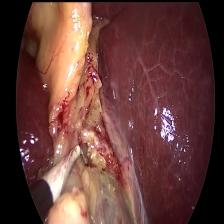Hook: (40, 142, 88, 200)
